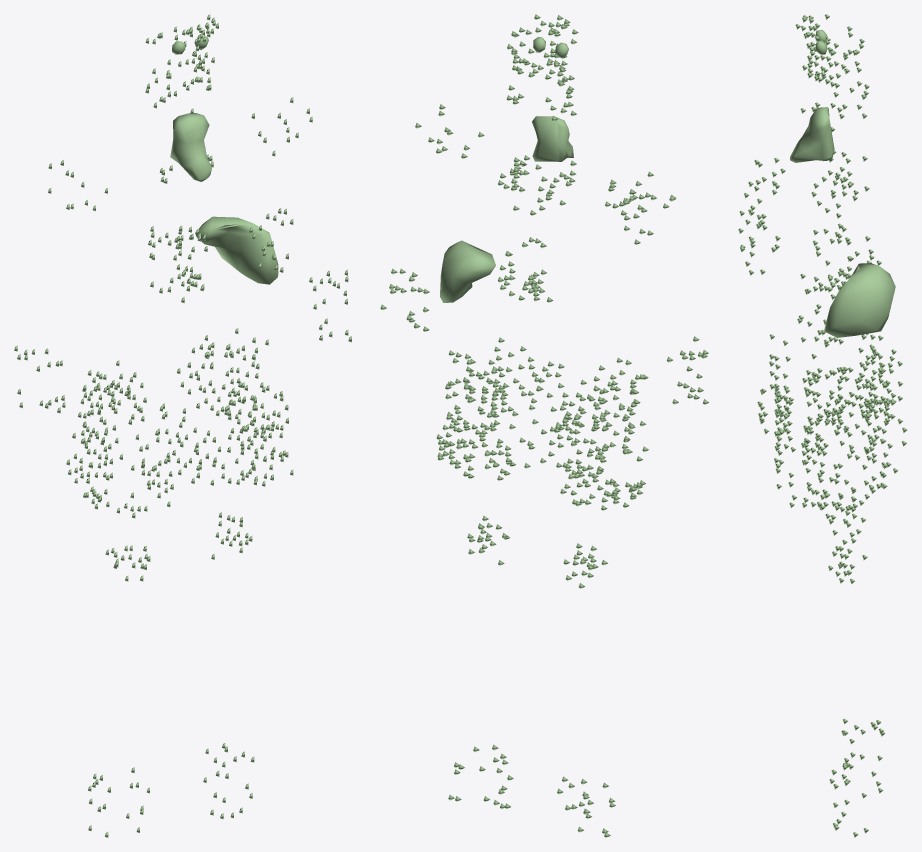
The model's file is pediatric_child_10y_male.lymphatic.LOD3.glb.
3 views of the same model, side by side, from view 1: azimuth 30°, elevation 25°; view 2: azimuth 150°, elevation 25°; view 3: azimuth 270°, elevation 25° (orthographic). The views are drawn at different scales.
Visible parts, largest first — view 1: PEDIATRIC.CHILD_10Y.MALE.LYMPHATIC.LYMPHATIC_NODES_TRUNK, PEDIATRIC.CHILD_10Y.MALE.LYMPHATIC.SPLEEN, PEDIATRIC.CHILD_10Y.MALE.LYMPHATIC.THYMUS, PEDIATRIC.CHILD_10Y.MALE.LYMPHATIC.LYMPHATIC_NODES_ET, PEDIATRIC.CHILD_10Y.MALE.LYMPHATIC.LYMPHATIC_NODES_ARMS, PEDIATRIC.CHILD_10Y.MALE.LYMPHATIC.LYMPHATIC_NODES_LEGS, PEDIATRIC.CHILD_10Y.MALE.LYMPHATIC.LYMPHATIC_NODES_THORACIC; view 2: PEDIATRIC.CHILD_10Y.MALE.LYMPHATIC.LYMPHATIC_NODES_TRUNK, PEDIATRIC.CHILD_10Y.MALE.LYMPHATIC.SPLEEN, PEDIATRIC.CHILD_10Y.MALE.LYMPHATIC.THYMUS, PEDIATRIC.CHILD_10Y.MALE.LYMPHATIC.LYMPHATIC_NODES_ET, PEDIATRIC.CHILD_10Y.MALE.LYMPHATIC.LYMPHATIC_NODES_THORACIC, PEDIATRIC.CHILD_10Y.MALE.LYMPHATIC.LYMPHATIC_NODES_LEGS, PEDIATRIC.CHILD_10Y.MALE.LYMPHATIC.LYMPHATIC_NODES_ARMS; view 3: PEDIATRIC.CHILD_10Y.MALE.LYMPHATIC.LYMPHATIC_NODES_TRUNK, PEDIATRIC.CHILD_10Y.MALE.LYMPHATIC.SPLEEN, PEDIATRIC.CHILD_10Y.MALE.LYMPHATIC.THYMUS, PEDIATRIC.CHILD_10Y.MALE.LYMPHATIC.LYMPHATIC_NODES_ET, PEDIATRIC.CHILD_10Y.MALE.LYMPHATIC.LYMPHATIC_NODES_THORACIC, PEDIATRIC.CHILD_10Y.MALE.LYMPHATIC.LYMPHATIC_NODES_ARMS, PEDIATRIC.CHILD_10Y.MALE.LYMPHATIC.LYMPHATIC_NODES_LEGS, PEDIATRIC.CHILD_10Y.MALE.LYMPHATIC.LYMPHATIC_NODES_HEAD.
Boxes of the visible parts, x1=… form: PEDIATRIC.CHILD_10Y.MALE.LYMPHATIC.LYMPHATIC_NODES_TRUNK: x1=48, y1=97, x2=312, y2=581; PEDIATRIC.CHILD_10Y.MALE.LYMPHATIC.SPLEEN: x1=195, y1=216, x2=278, y2=284; PEDIATRIC.CHILD_10Y.MALE.LYMPHATIC.THYMUS: x1=170, y1=113, x2=212, y2=181; PEDIATRIC.CHILD_10Y.MALE.LYMPHATIC.LYMPHATIC_NODES_ET: x1=145, y1=14, x2=218, y2=84; PEDIATRIC.CHILD_10Y.MALE.LYMPHATIC.LYMPHATIC_NODES_ARMS: x1=14, y1=269, x2=351, y2=413; PEDIATRIC.CHILD_10Y.MALE.LYMPHATIC.LYMPHATIC_NODES_LEGS: x1=88, y1=743, x2=254, y2=837; PEDIATRIC.CHILD_10Y.MALE.LYMPHATIC.LYMPHATIC_NODES_THORACIC: x1=148, y1=147, x2=213, y2=303; PEDIATRIC.CHILD_10Y.MALE.LYMPHATIC.LYMPHATIC_NODES_TRUNK: x1=415, y1=104, x2=676, y2=588; PEDIATRIC.CHILD_10Y.MALE.LYMPHATIC.SPLEEN: x1=440, y1=240, x2=495, y2=302; PEDIATRIC.CHILD_10Y.MALE.LYMPHATIC.THYMUS: x1=532, y1=116, x2=573, y2=161; PEDIATRIC.CHILD_10Y.MALE.LYMPHATIC.LYMPHATIC_NODES_ET: x1=507, y1=14, x2=578, y2=81; PEDIATRIC.CHILD_10Y.MALE.LYMPHATIC.LYMPHATIC_NODES_THORACIC: x1=498, y1=155, x2=576, y2=302; PEDIATRIC.CHILD_10Y.MALE.LYMPHATIC.LYMPHATIC_NODES_LEGS: x1=448, y1=744, x2=615, y2=837; PEDIATRIC.CHILD_10Y.MALE.LYMPHATIC.LYMPHATIC_NODES_ARMS: x1=380, y1=268, x2=708, y2=404; PEDIATRIC.CHILD_10Y.MALE.LYMPHATIC.LYMPHATIC_NODES_TRUNK: x1=738, y1=90, x2=907, y2=583; PEDIATRIC.CHILD_10Y.MALE.LYMPHATIC.SPLEEN: x1=824, y1=263, x2=895, y2=337; PEDIATRIC.CHILD_10Y.MALE.LYMPHATIC.THYMUS: x1=790, y1=107, x2=834, y2=162; PEDIATRIC.CHILD_10Y.MALE.LYMPHATIC.LYMPHATIC_NODES_ET: x1=795, y1=14, x2=864, y2=82; PEDIATRIC.CHILD_10Y.MALE.LYMPHATIC.LYMPHATIC_NODES_THORACIC: x1=818, y1=151, x2=881, y2=292; PEDIATRIC.CHILD_10Y.MALE.LYMPHATIC.LYMPHATIC_NODES_ARMS: x1=800, y1=223, x2=851, y2=430; PEDIATRIC.CHILD_10Y.MALE.LYMPHATIC.LYMPHATIC_NODES_LEGS: x1=829, y1=718, x2=885, y2=837; PEDIATRIC.CHILD_10Y.MALE.LYMPHATIC.LYMPHATIC_NODES_HEAD: x1=811, y1=61, x2=869, y2=112.
Size of the model in its own units: 0.391 by 0.9176 by 0.1783.
